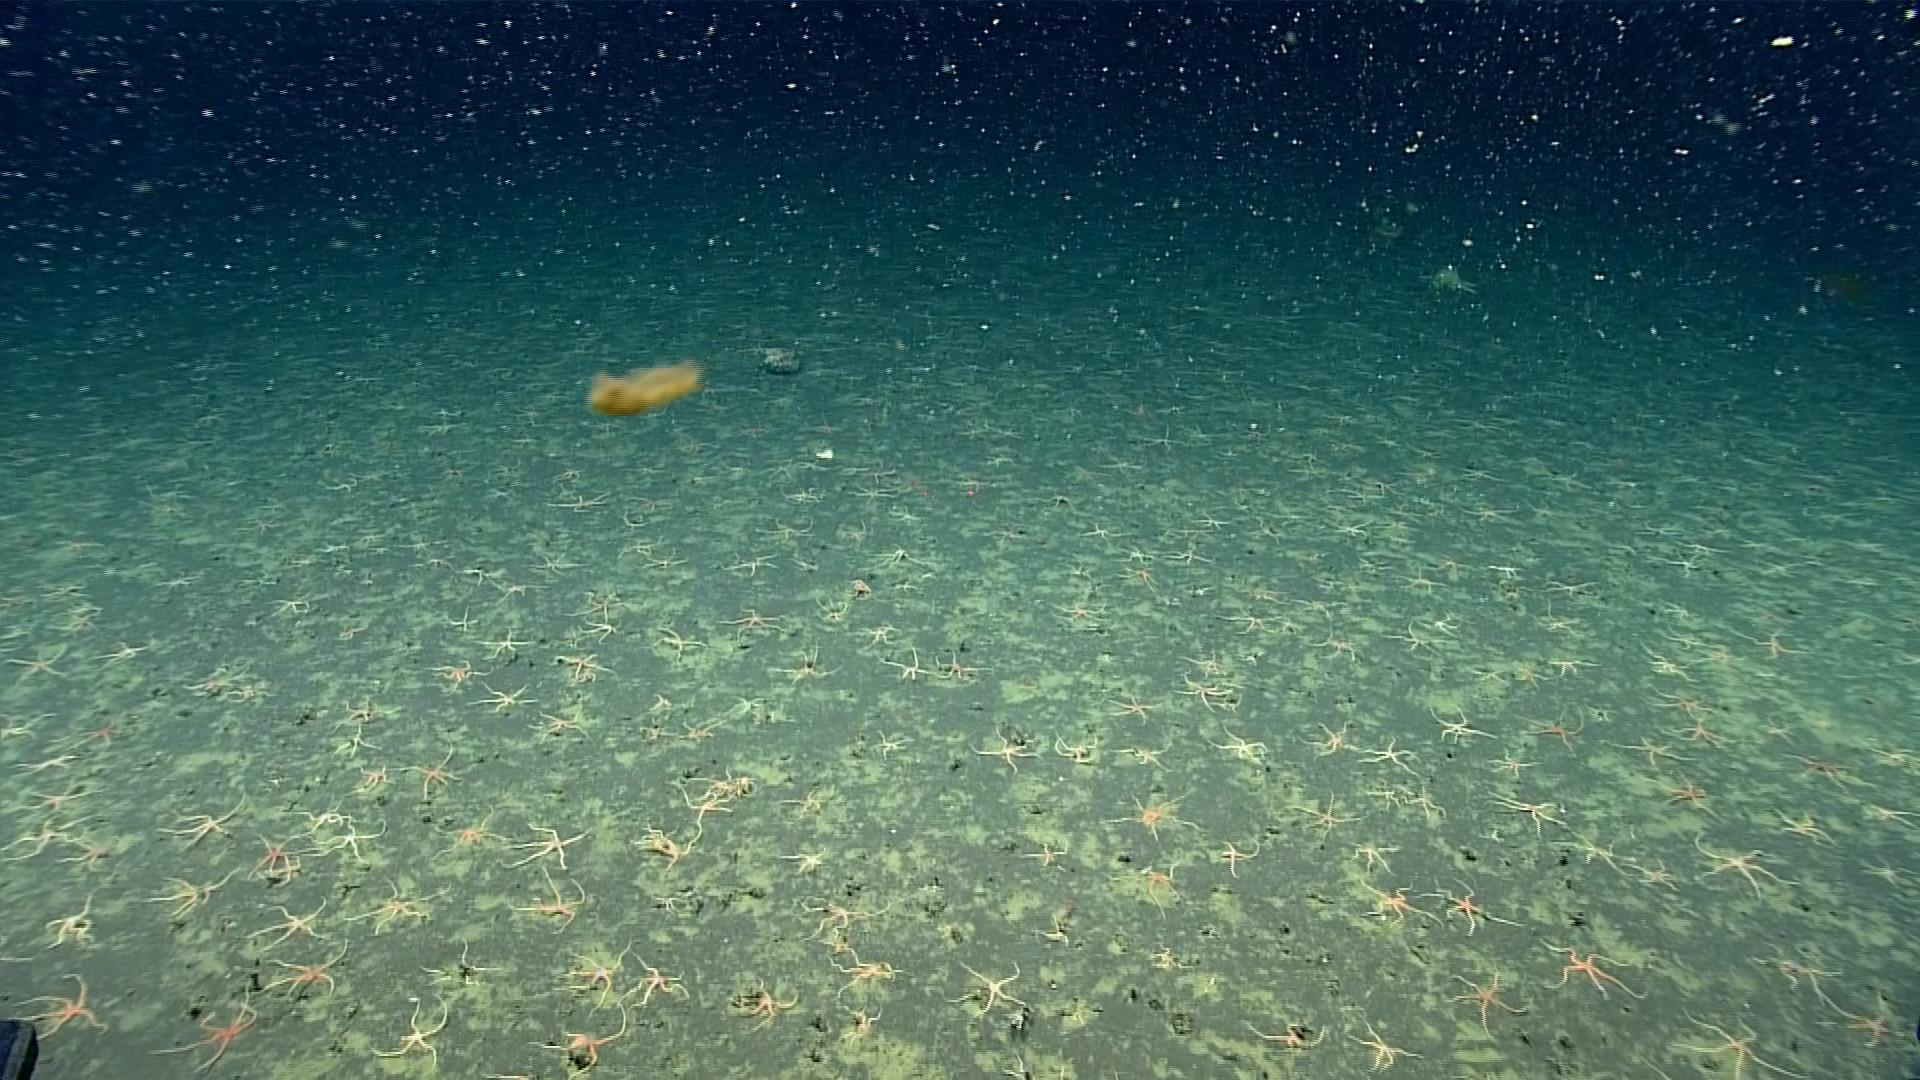brittle_sea_star: (152, 982, 257, 1069), (1669, 1006, 1793, 1077), (11, 971, 111, 1043), (1688, 832, 1796, 897), (1540, 936, 1639, 1001), (1419, 876, 1522, 938), (527, 1010, 625, 1071), (343, 878, 452, 932), (554, 938, 633, 1011), (146, 861, 243, 918), (1816, 993, 1912, 1050), (1096, 789, 1201, 840), (1447, 972, 1527, 1038), (372, 992, 451, 1058), (942, 959, 1029, 1018), (509, 866, 585, 934), (393, 737, 468, 800), (1353, 876, 1440, 930), (502, 820, 591, 872), (248, 898, 334, 951), (265, 944, 348, 998), (1, 814, 92, 862), (156, 799, 241, 851), (1485, 789, 1571, 837), (426, 802, 502, 856), (793, 895, 887, 938), (1764, 952, 1849, 1000), (1346, 1019, 1419, 1073), (621, 953, 690, 1010), (418, 939, 497, 986), (823, 947, 899, 996), (671, 783, 735, 841), (1564, 831, 1640, 878), (731, 980, 799, 1033), (972, 724, 1040, 777), (1287, 794, 1361, 841), (1131, 860, 1189, 919), (1607, 735, 1700, 770), (9, 778, 98, 812), (313, 819, 386, 860), (247, 829, 301, 885), (1242, 1017, 1324, 1052), (3, 642, 73, 683), (44, 895, 100, 945), (629, 819, 686, 869), (1425, 705, 1494, 745), (1354, 736, 1419, 777), (1288, 721, 1357, 760), (1782, 746, 1847, 785), (1651, 686, 1720, 721), (475, 625, 541, 662), (1654, 775, 1710, 818), (720, 605, 783, 641), (469, 683, 537, 716), (529, 704, 588, 741), (1775, 808, 1830, 847), (1379, 617, 1439, 653), (1176, 670, 1228, 711), (427, 658, 489, 691), (699, 764, 758, 798), (1208, 729, 1267, 764), (771, 647, 831, 682), (649, 625, 705, 661), (1741, 626, 1801, 659), (1526, 717, 1582, 752), (1180, 644, 1237, 678), (1348, 839, 1403, 873), (1109, 741, 1172, 770), (1858, 799, 1917, 828), (881, 646, 927, 683), (295, 799, 344, 833), (1216, 840, 1261, 877), (551, 649, 608, 678), (1217, 607, 1279, 633), (1018, 839, 1071, 869), (930, 651, 980, 683), (1047, 596, 1106, 622), (575, 608, 626, 638), (1105, 692, 1154, 724), (1393, 567, 1444, 596), (1634, 857, 1679, 890), (843, 1004, 881, 1042), (94, 638, 146, 666), (59, 840, 113, 866), (182, 670, 233, 698), (328, 727, 377, 756), (779, 845, 828, 874), (13, 753, 78, 774), (725, 547, 774, 575), (1319, 633, 1360, 666), (1114, 563, 1164, 589), (571, 592, 618, 620), (334, 698, 385, 723), (1536, 608, 1585, 634), (1114, 545, 1160, 572), (1051, 733, 1095, 762), (778, 789, 828, 814), (1404, 787, 1444, 819), (1677, 721, 1725, 748), (866, 728, 909, 757), (752, 520, 810, 541), (1862, 860, 1909, 885), (1486, 752, 1539, 774), (488, 582, 541, 604), (541, 495, 607, 512), (856, 622, 899, 647), (996, 1050, 1033, 1079), (678, 717, 723, 741), (877, 541, 915, 568), (1545, 578, 1593, 599), (1036, 913, 1068, 944), (1833, 767, 1883, 787), (76, 721, 116, 746), (1423, 609, 1458, 637), (1542, 658, 1593, 676), (1658, 553, 1702, 574), (1166, 543, 1205, 567), (1763, 711, 1793, 741), (270, 592, 310, 615), (357, 762, 390, 789), (1191, 509, 1232, 530), (456, 566, 502, 584), (1509, 665, 1544, 688), (843, 578, 878, 601), (447, 603, 476, 632), (1366, 781, 1398, 807), (816, 596, 847, 622), (1878, 746, 1913, 769), (153, 574, 199, 591), (233, 680, 270, 702), (1080, 518, 1113, 541), (1327, 520, 1369, 537), (884, 509, 923, 526), (646, 690, 674, 712), (1890, 642, 1919, 663), (618, 539, 654, 556), (637, 720, 662, 738)
